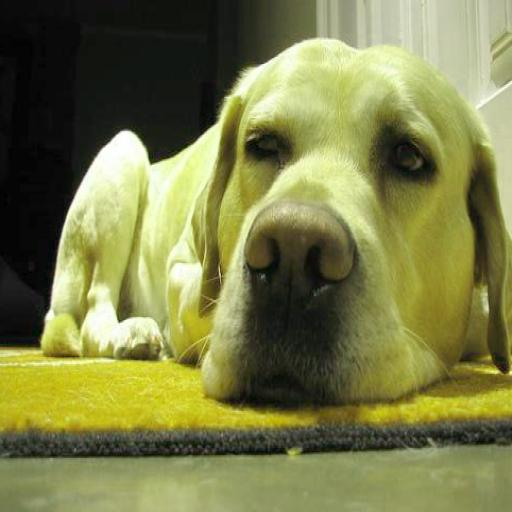dog_face: (209, 36, 511, 421)
